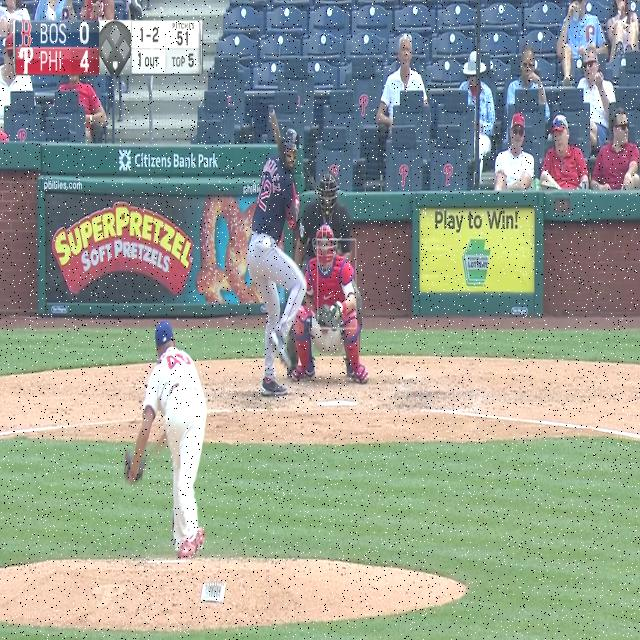baseball: (261, 238, 271, 252)
